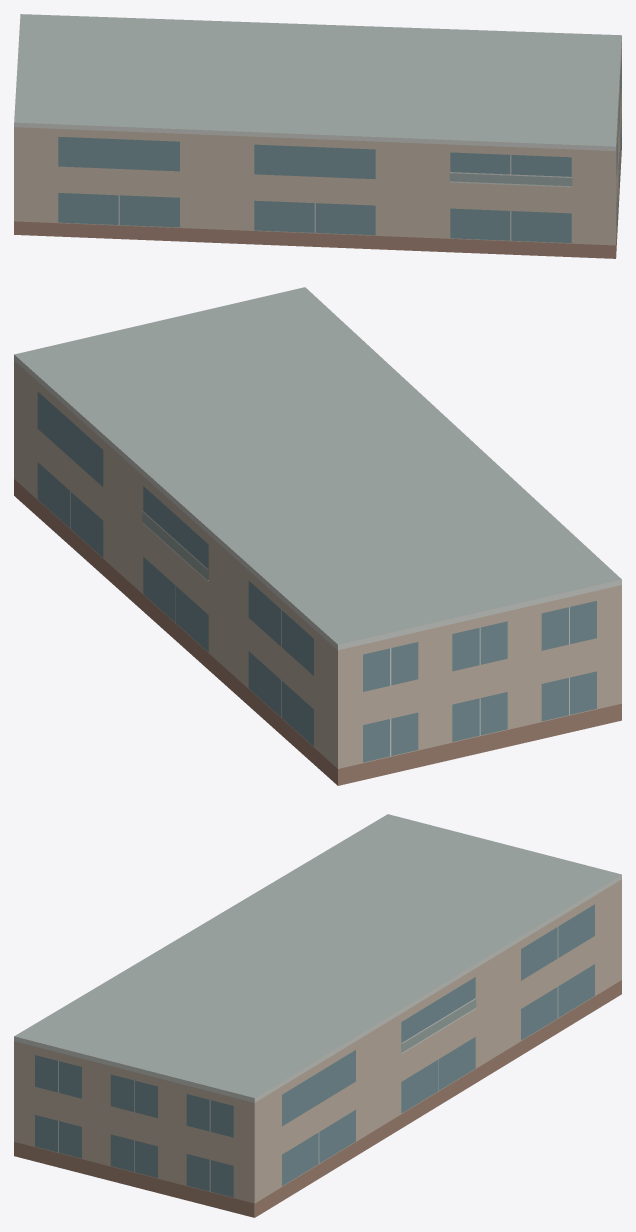
Rendered from survey-upis-32689140.glb.
3 renders of one model, top to bottom at view 1: azimuth 30°, elevation 25°; view 2: azimuth 150°, elevation 25°; view 3: azimuth 270°, elevation 25°, orthographic. The views are drawn at different scales.
Parts seen in each view (by area): view 1: survey-upis-32689140.tmp; view 2: survey-upis-32689140.tmp; view 3: survey-upis-32689140.tmp.
Part boxes in pixels (x1,y1,x2,y2): survey-upis-32689140.tmp: (14,14,621,258); survey-upis-32689140.tmp: (14,287,621,785); survey-upis-32689140.tmp: (14,814,621,1217).
Bounding box in the file's own units: 31.03 × 6.1 × 28.06.
